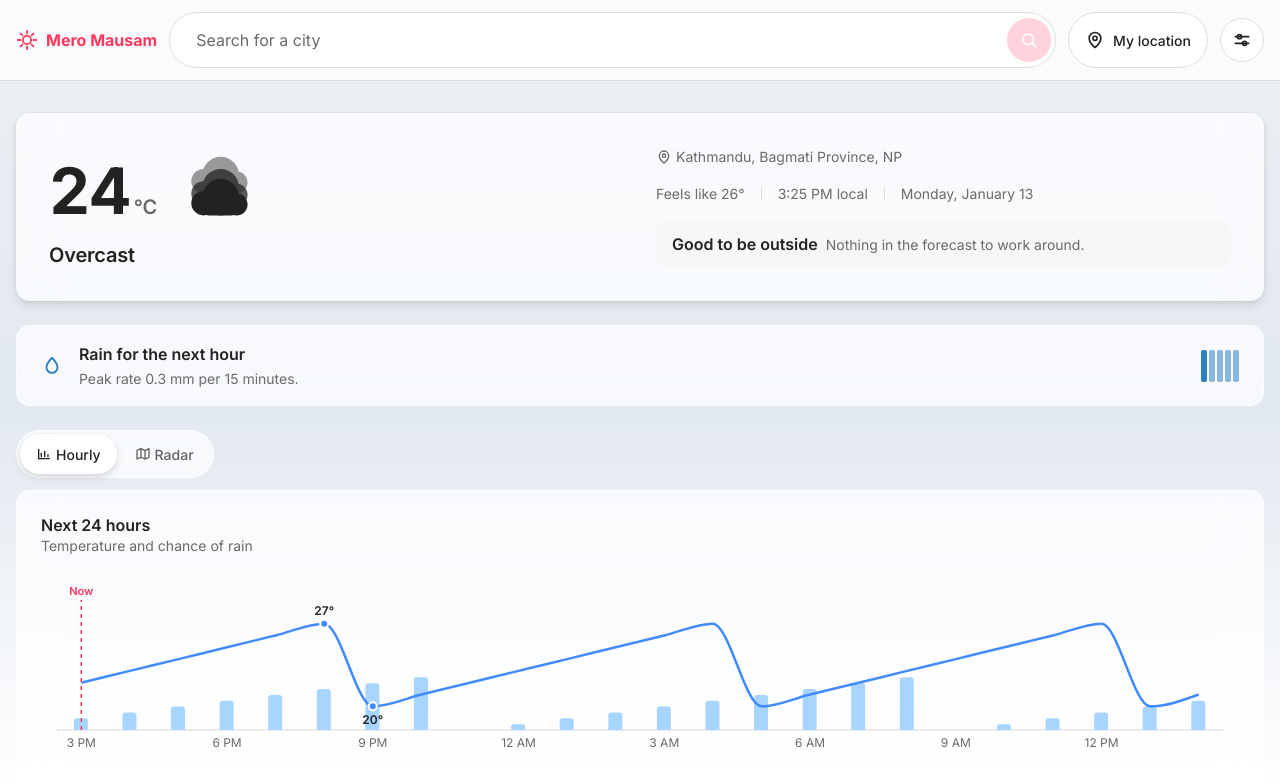
Test: recent searches › offers previously searched cities when the field is empty
The width and height of the screenshot is (1280, 784).
Expected: the text "24" is shown, x1=49 y1=156 x2=130 y2=226
Type "Kathmandu" into the dropdown labelled "Search for a city" at coordinates (599, 40), box x1=194 y1=27 x2=1003 y2=53
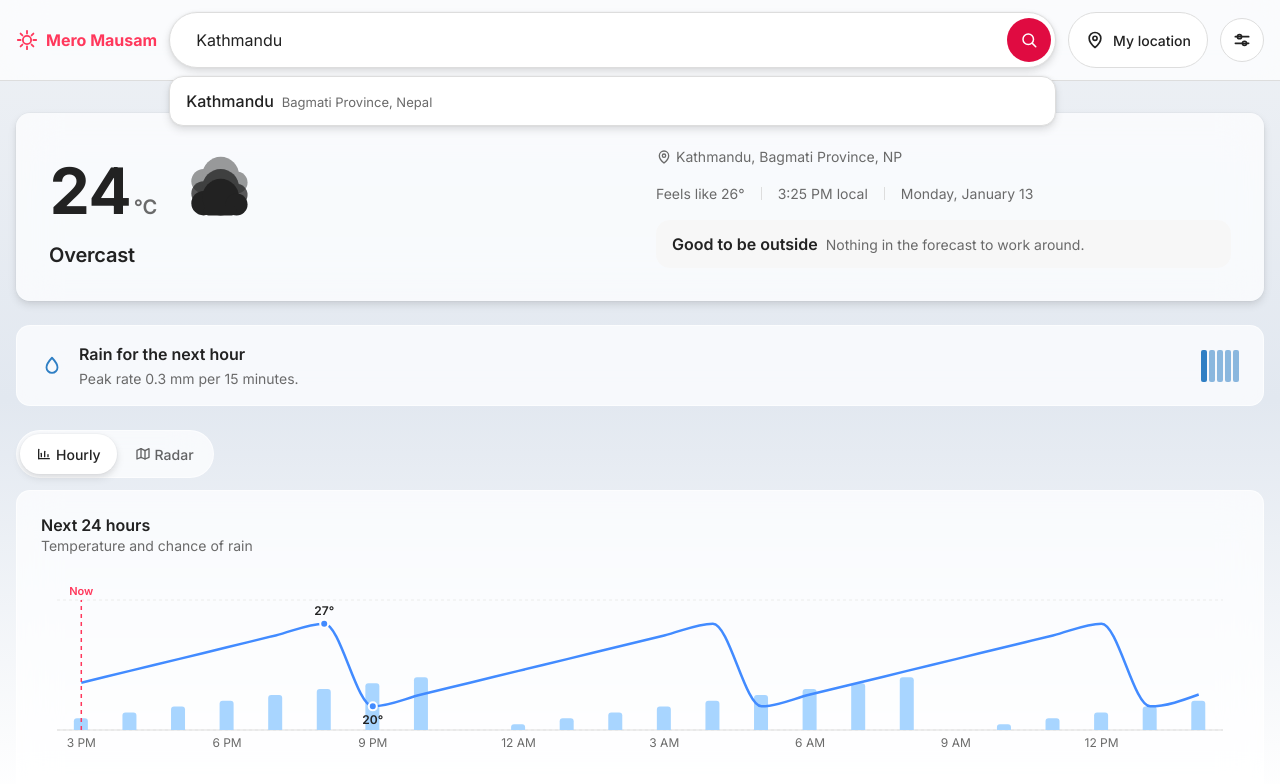
Click the option "Kathmandu Bagmati Province, Nepal" at coordinates (230, 101), box x1=170 y1=77 x2=1055 y2=125
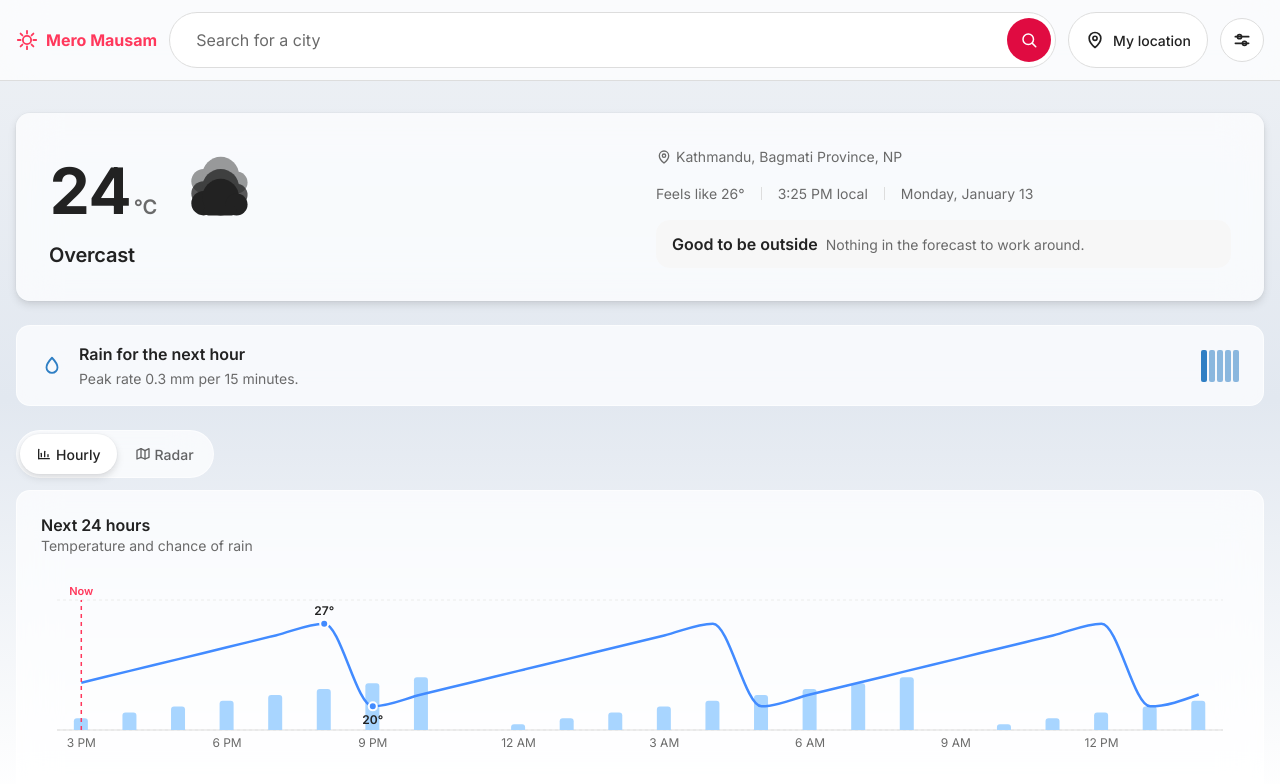
Selecting clears the field, so focusing it again should show history.
Click the dropdown labelled "Search for a city" at coordinates (599, 40), box x1=194 y1=27 x2=1003 y2=53
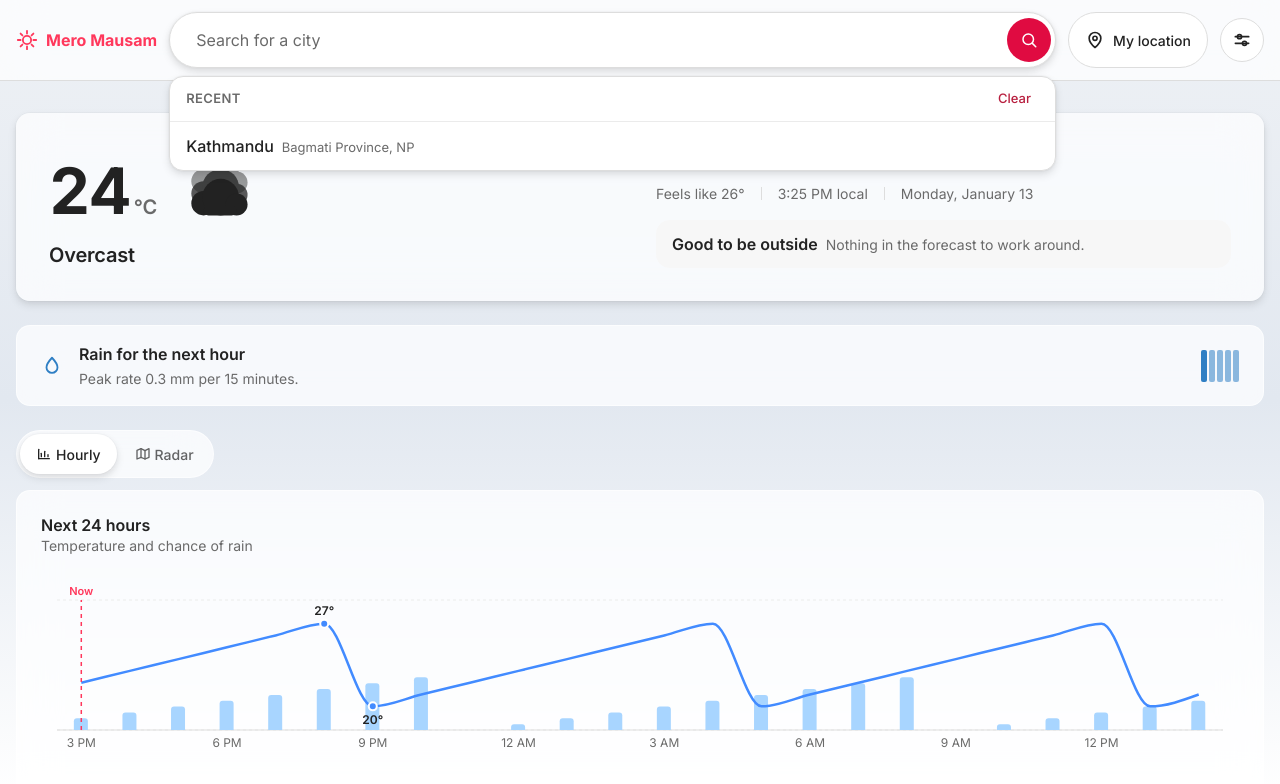
Expected: the text "Kathmandu" is shown, x1=186 y1=134 x2=274 y2=158
